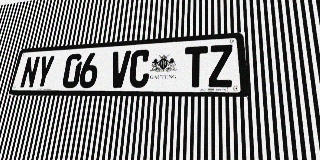0: (61, 53, 83, 88)
6: (78, 52, 100, 88)
C: (128, 49, 151, 88)
N: (19, 56, 41, 88)
T: (184, 46, 208, 87)
V: (108, 50, 131, 88)
Y: (34, 55, 55, 88)
Z: (208, 44, 234, 87)
